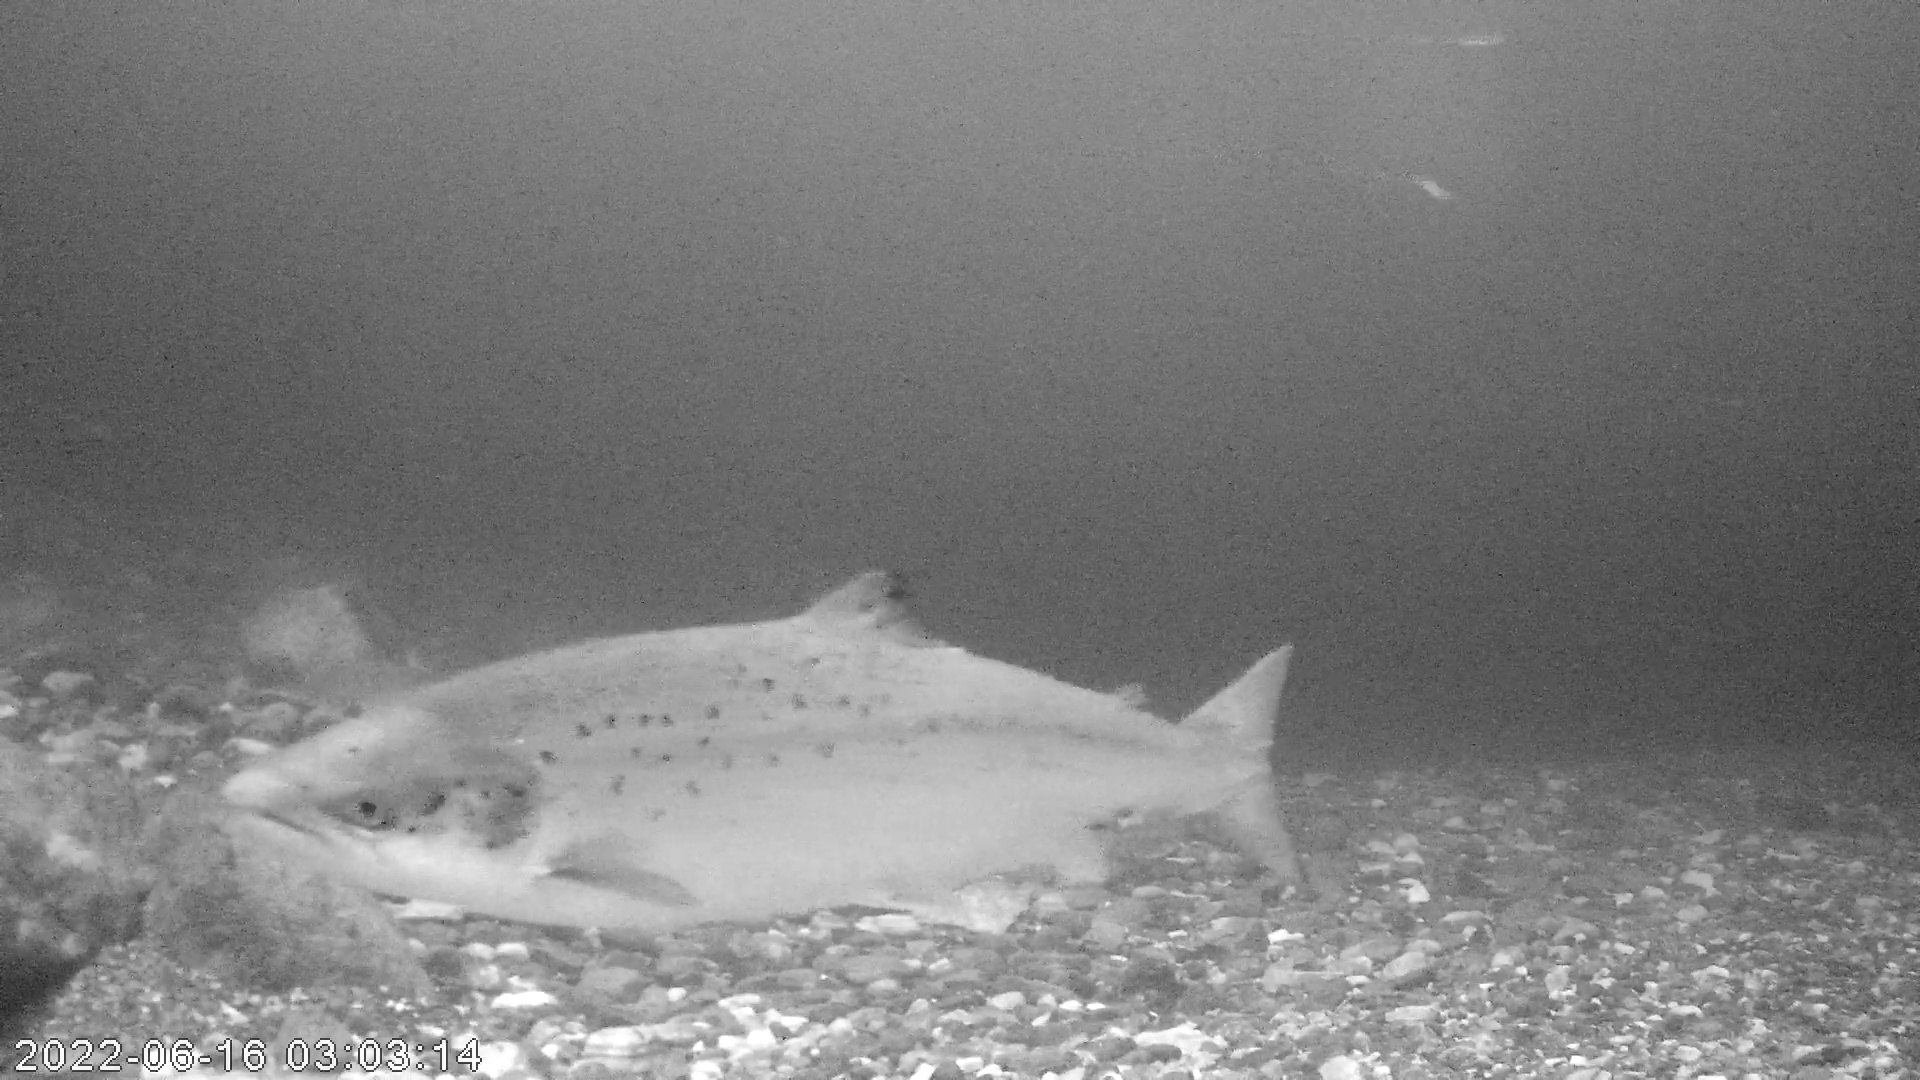salmon: (218, 564, 1308, 931)
